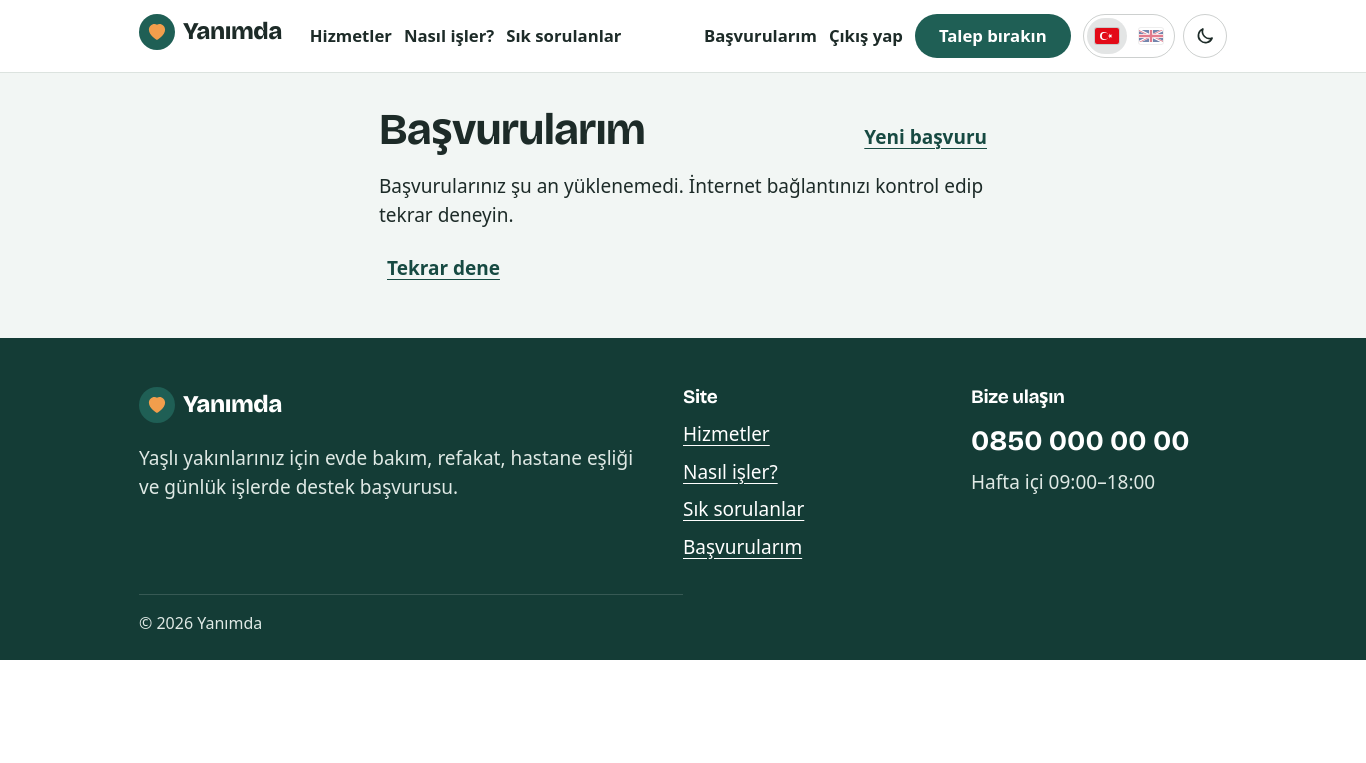
Test: PublicLayout › çıkış yapınca oturumu kapatıp ana sayfaya döner
This screenshot has width=1366, height=763.
Click the button "Çıkış yap" at (866, 36), box top-left (829, 14), bottom-right (903, 58)
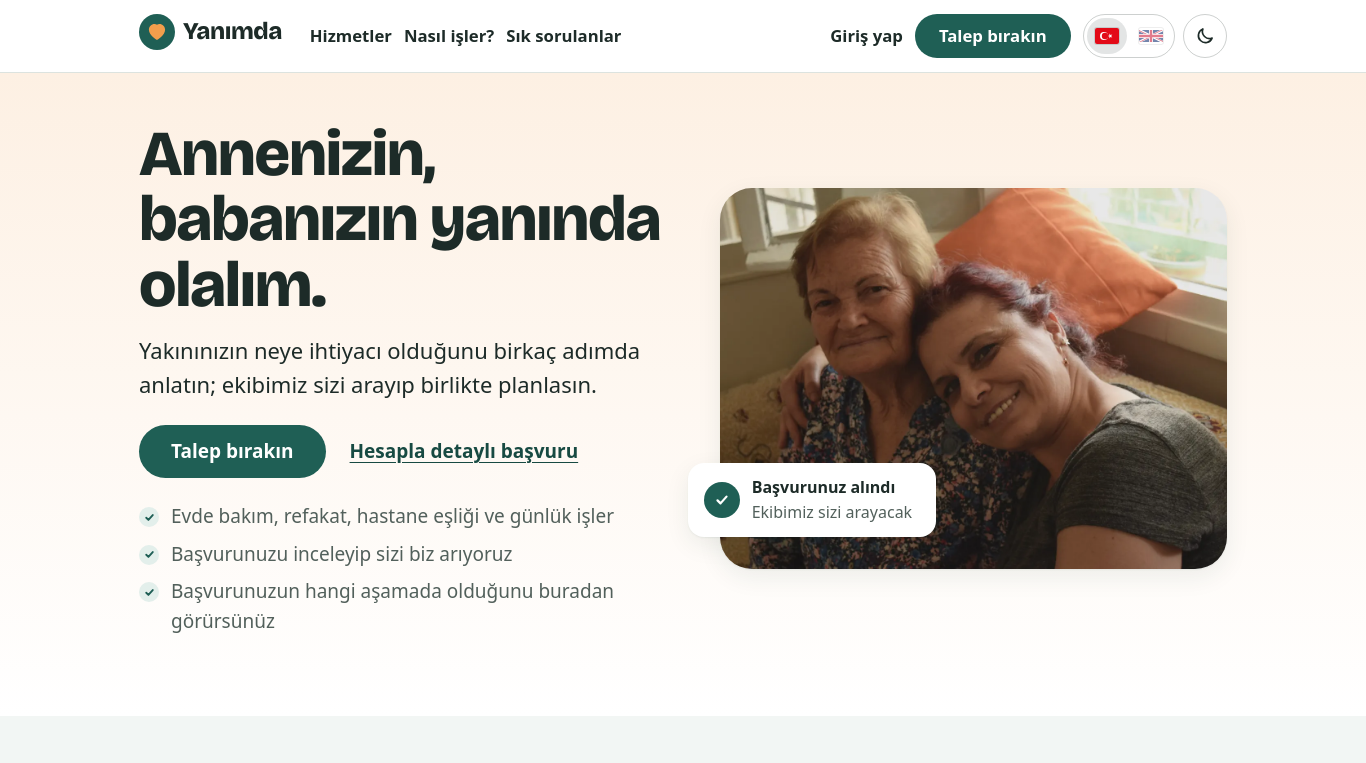
Result: the navigation bar named "Hesap" shows "Giriş yap" at top-left (830, 14), bottom-right (903, 58)
